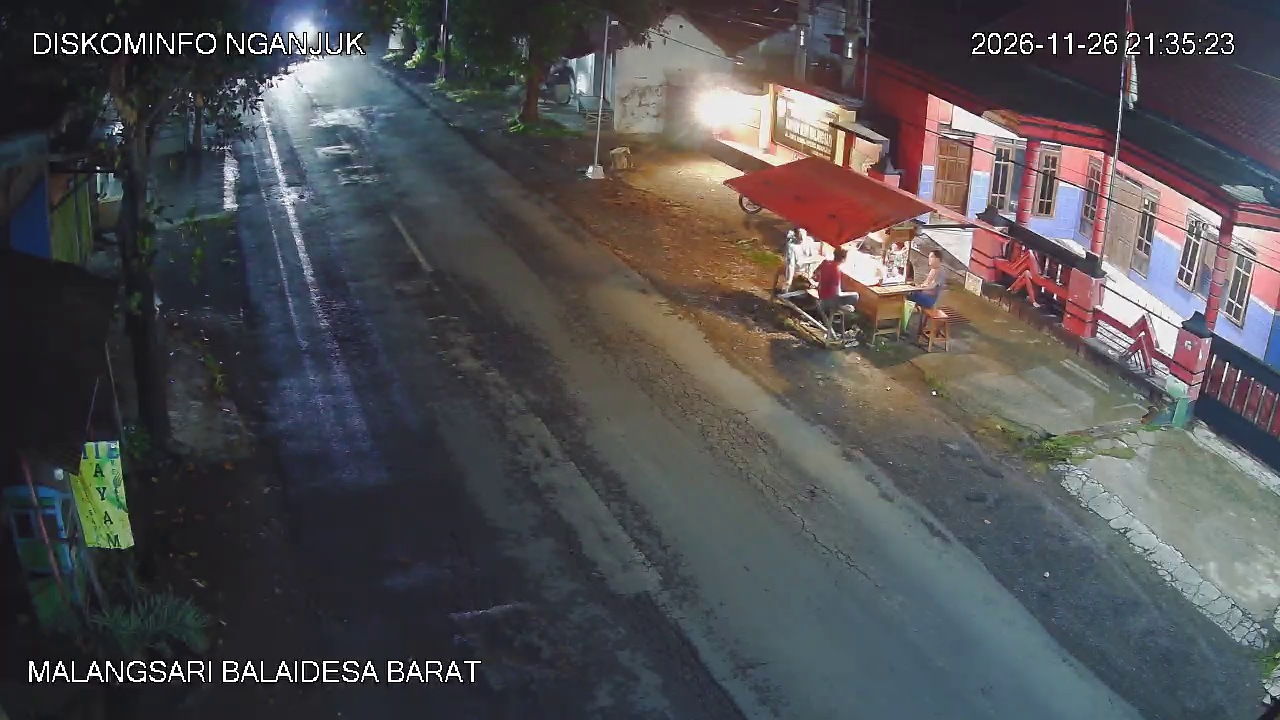Gerobak: (858, 278, 920, 346)
